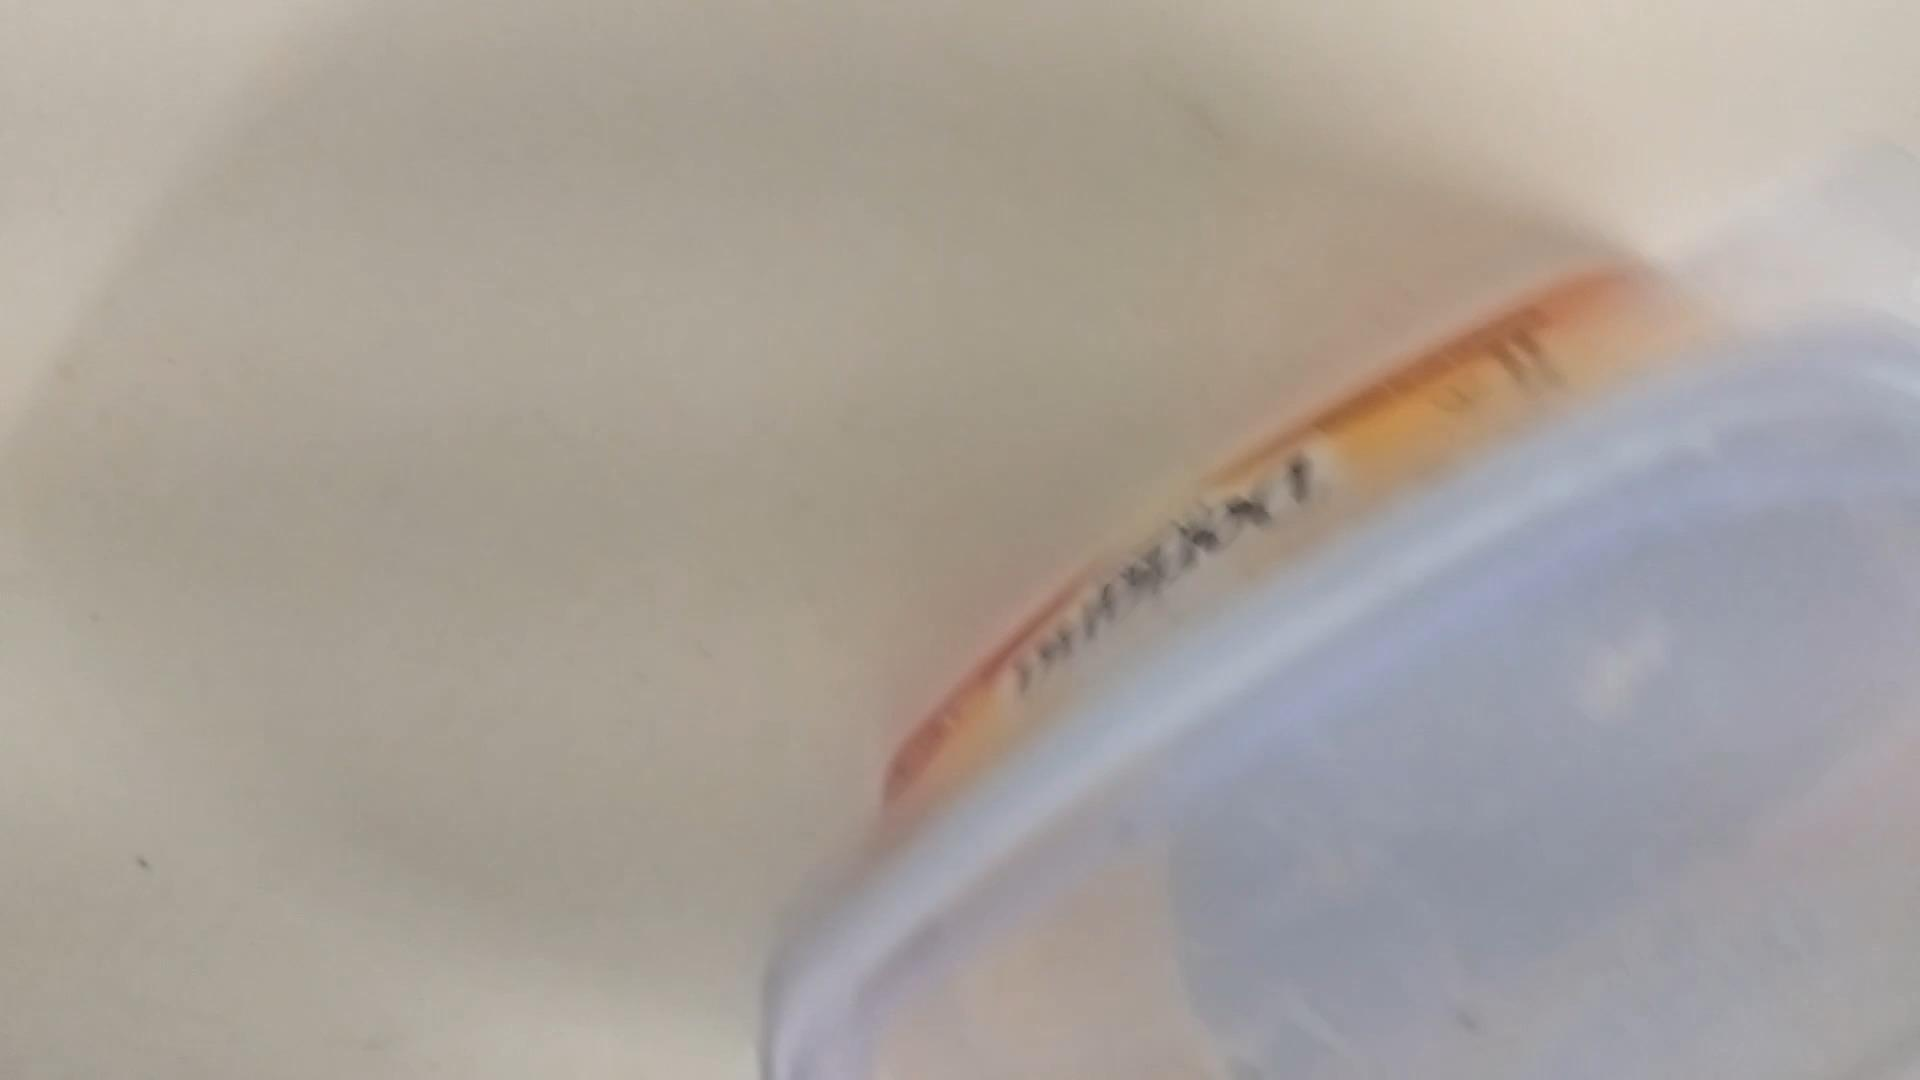butter: (769, 162, 1920, 1080)
